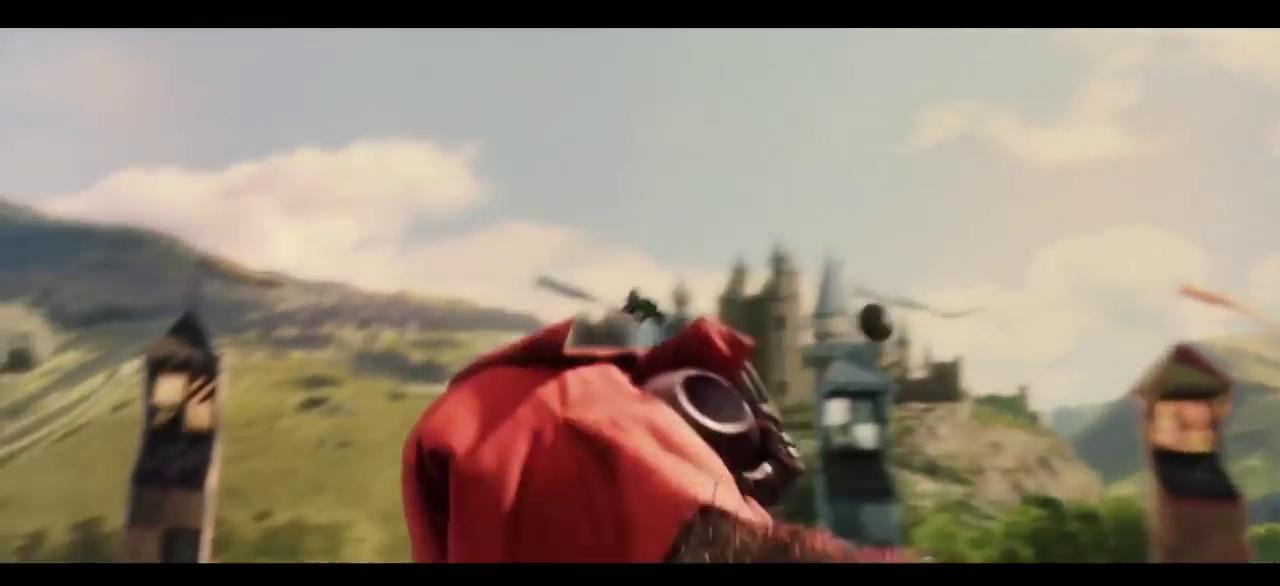bludger: (855, 300, 895, 345)
quaffle: (647, 365, 757, 458)
